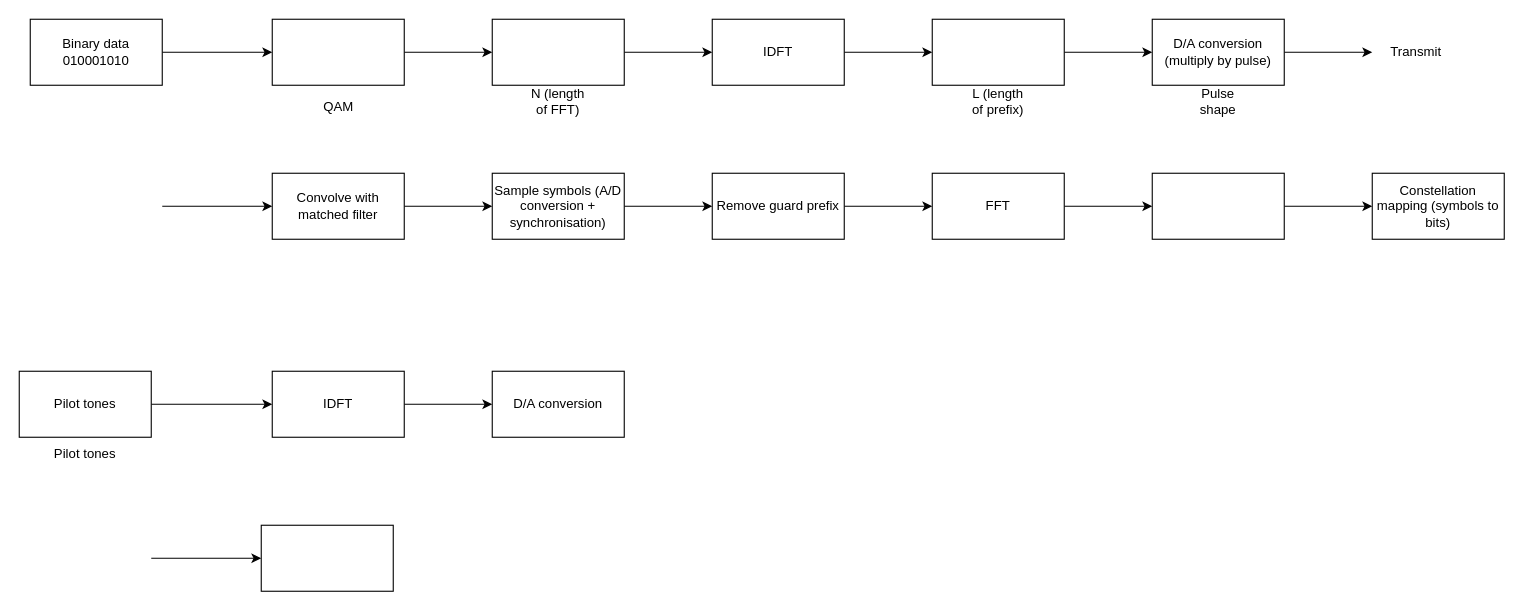
Image size: 1524x611. Some labels were removed from this diagram. Here are the shapes that lost their labels. From the top down, the centre of each, then its label:
At (337,51): "Constellation mapping".
At (557,51): "Subcarrier mapping (maintain conjugate symmetry for baseband)".
At (997,51): "Add guard prefix".
At (1217,205): "Minimum distance decoding".
At (326,557): "Channel estimation + synchronisation".
